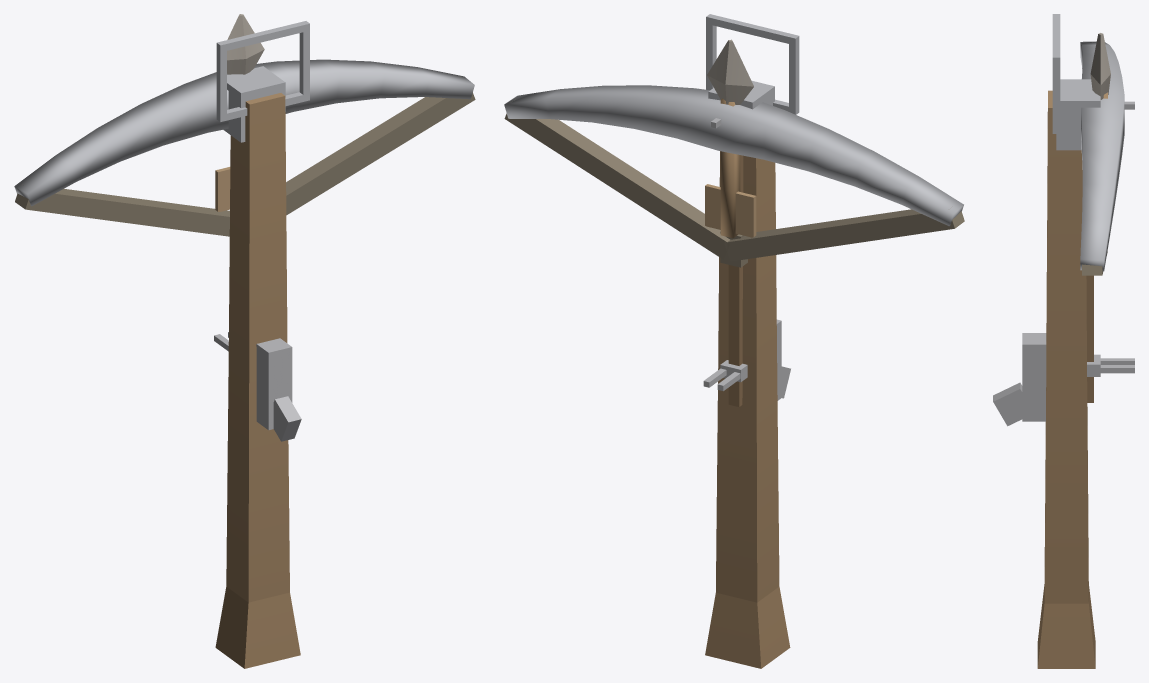
3 renders of one model, left to right at view 1: azimuth 30°, elevation 25°; view 2: azimuth 150°, elevation 25°; view 3: azimuth 270°, elevation 25°, orthographic.
Visible parts, largest first — view 1: crossbow; view 2: crossbow; view 3: crossbow.
Boxes of the visible parts, left/top/right/bottom form: crossbow: left=14, top=14, right=475, bottom=668; crossbow: left=504, top=14, right=964, bottom=668; crossbow: left=993, top=14, right=1134, bottom=668.
Size of the model in its own units: 0.6087 by 0.805 by 0.1663.
